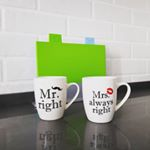cups: (80, 74, 133, 125), (30, 73, 82, 121)
